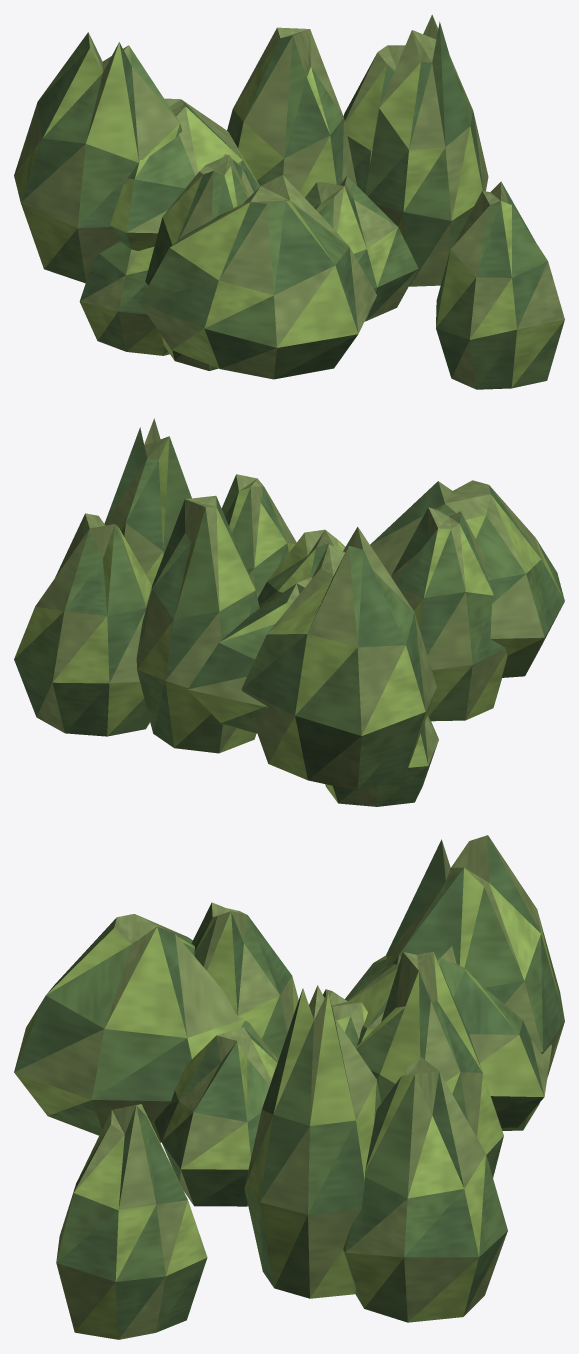
The model's file is bush_leafy_01.fbx.
The picture shows the model from 3 angles, top to bottom: view 1: azimuth 30°, elevation 25°; view 2: azimuth 150°, elevation 25°; view 3: azimuth 270°, elevation 25°; orthographic projection. The views are drawn at different scales.
Visible parts, largest first — view 1: bush_leafy_01; view 2: bush_leafy_01; view 3: bush_leafy_01.
Part boxes in pixels (left/top/right/bottom): bush_leafy_01: left=14, top=14, right=564, bottom=389; bush_leafy_01: left=14, top=418, right=564, bottom=806; bush_leafy_01: left=14, top=835, right=564, bottom=1339.
Bounding box in the file's own units: 155 × 102 × 150.
Materials: 1 (1 with a texture image).
